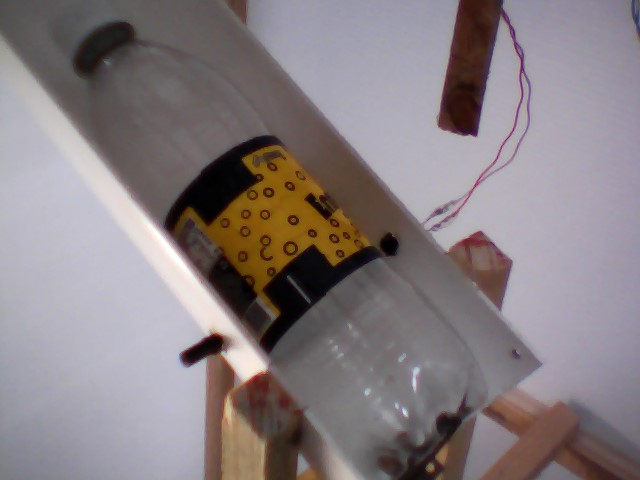plastico: (51, 3, 497, 475)
